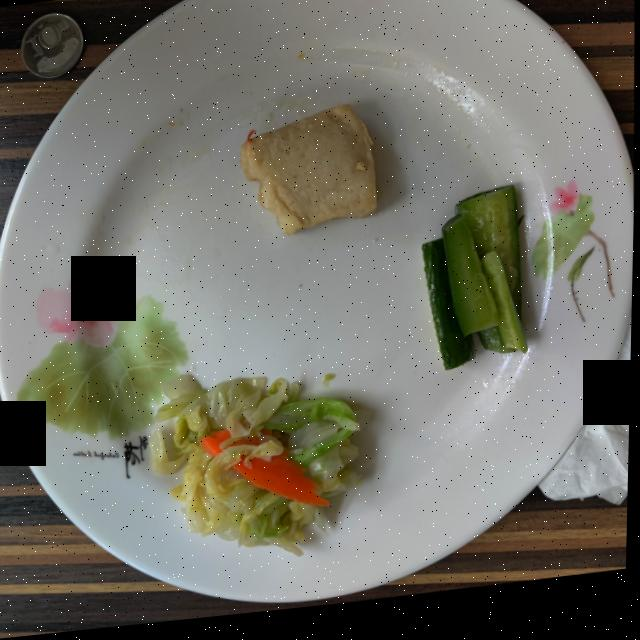cabbage: (152, 377, 362, 561)
coin: (21, 13, 84, 78)
creamy tofu -without sauce-: (241, 111, 378, 240)
cucumber: (423, 196, 528, 378)
